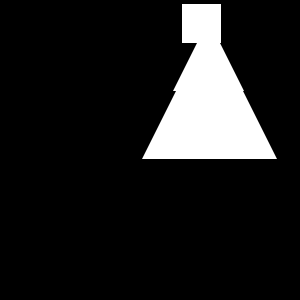circle: (182, 4, 221, 43)
triangle: (142, 24, 277, 159), (173, 20, 244, 91)
